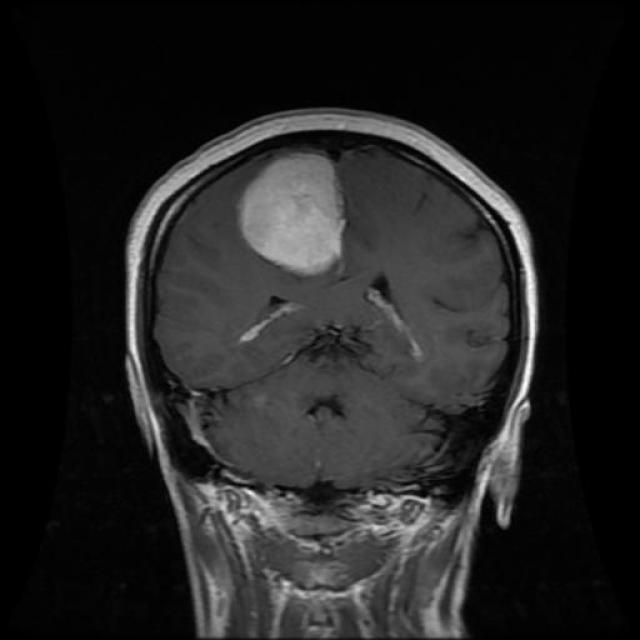meningioma: (240, 150, 344, 272)
